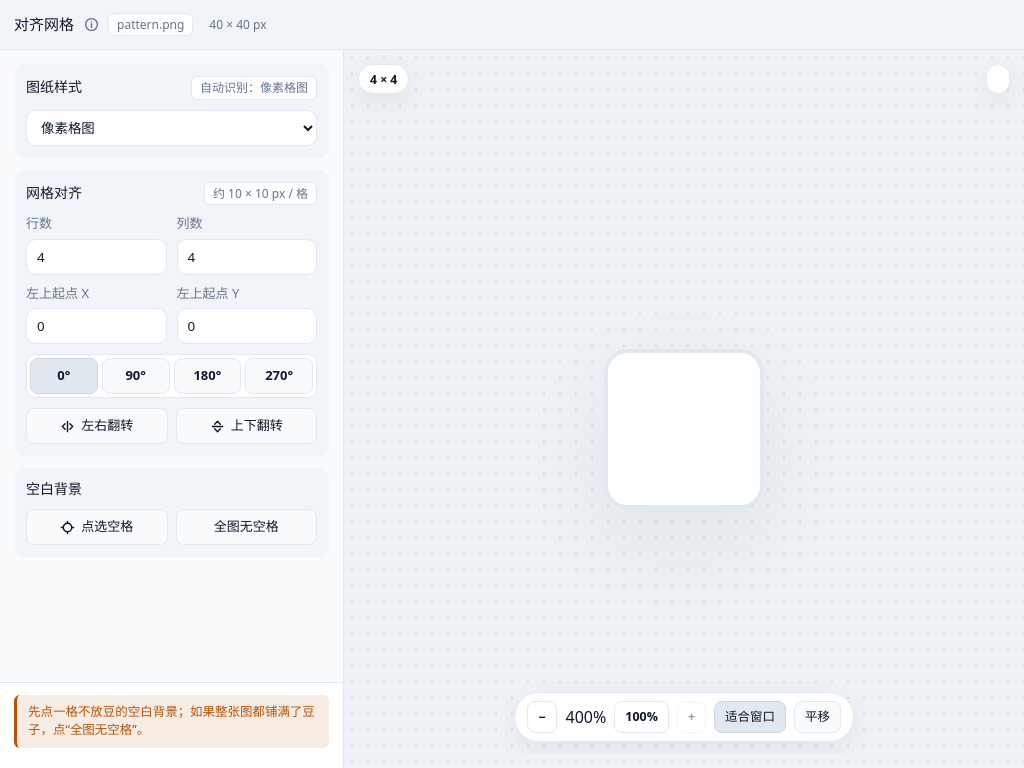
Test: BeadCalibrationStep › maps source-canvas picks to an explicit empty sample only
Click the button "点选空格": (97, 527) [26, 509, 168, 545]
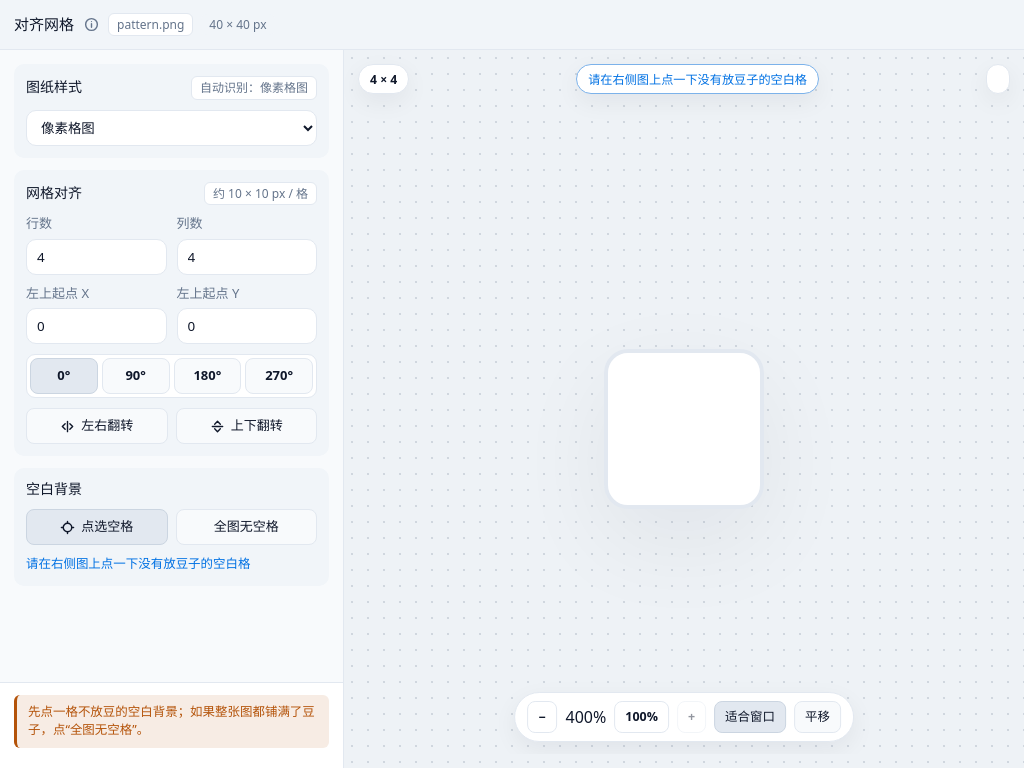
Press the mouse on the picture named "图纸网格预览": (684, 429) [604, 349, 764, 509]
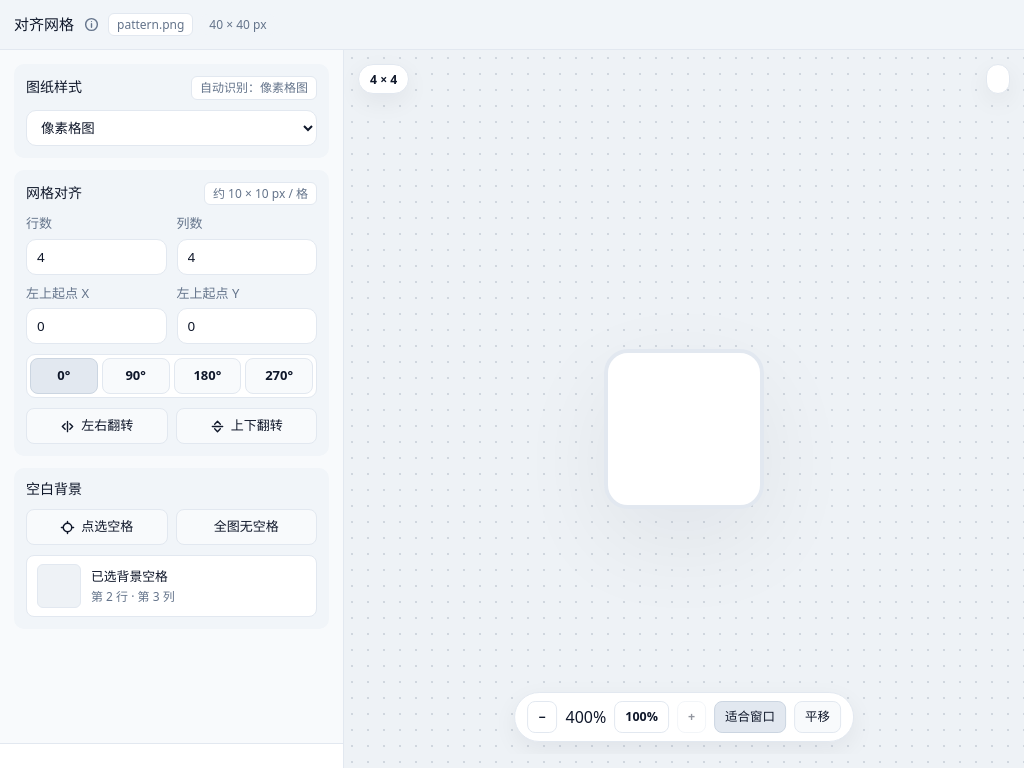
Check: the text "已选背景空格" is shown, box [91, 568, 175, 585]
Check: the text "第 2 行 · 第 3 列" is shown, box [91, 587, 175, 605]
